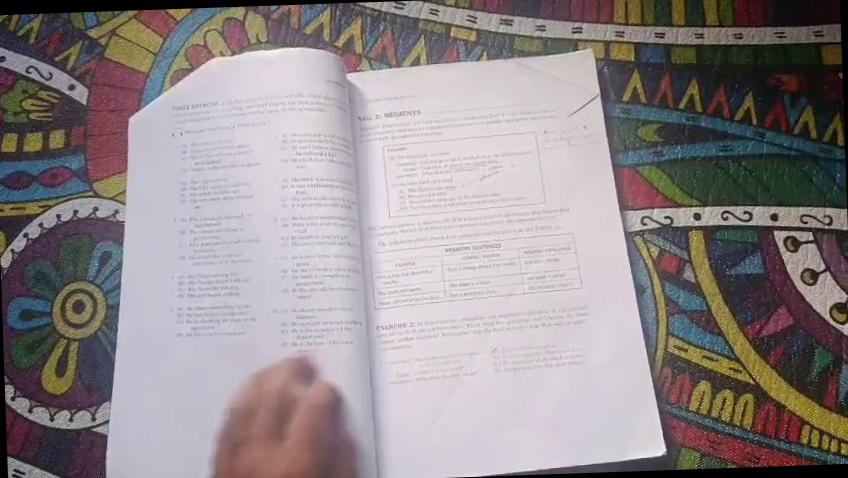Kertas: (345, 59, 603, 478), (127, 108, 480, 366)
